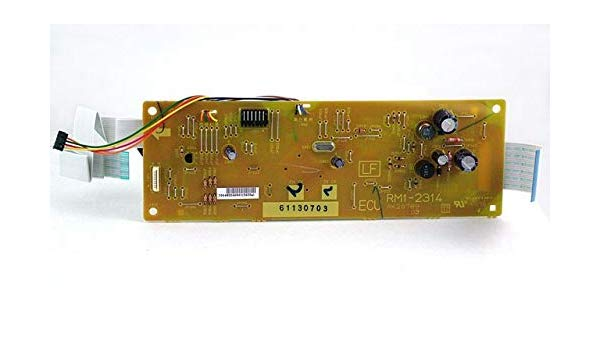capacitor: (435, 108, 457, 133), (455, 148, 477, 173), (432, 148, 449, 166), (225, 147, 236, 160), (332, 157, 343, 169)
resistor: (448, 137, 462, 143), (213, 176, 218, 187), (208, 177, 213, 188), (208, 194, 213, 204), (204, 193, 208, 205), (203, 180, 208, 189), (213, 194, 217, 204)
